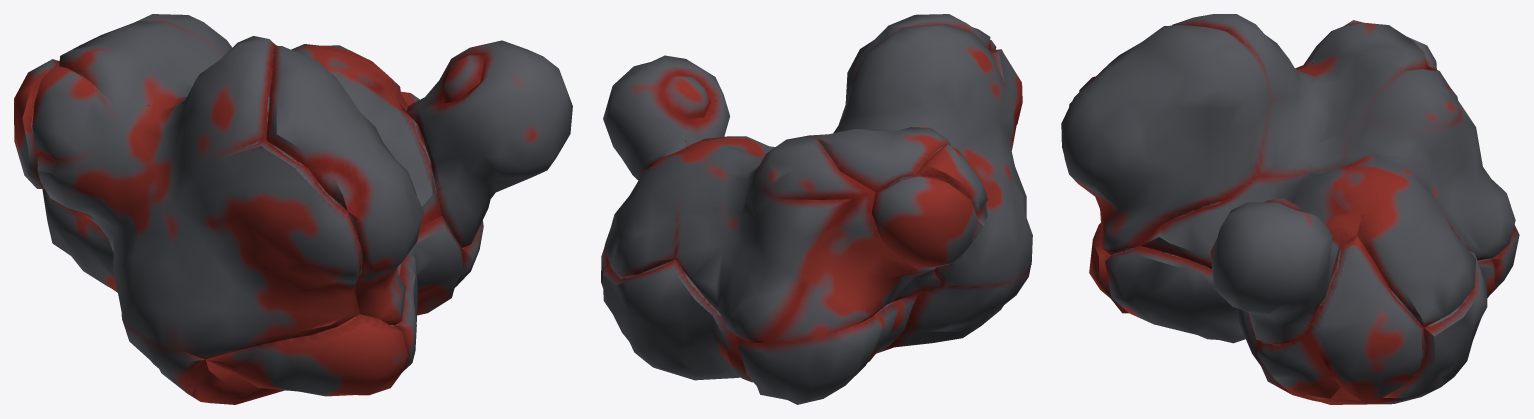
Rendered from hematita.fbx.
3 views of the same model, side by side, from view 1: azimuth 30°, elevation 25°; view 2: azimuth 150°, elevation 25°; view 3: azimuth 270°, elevation 25° (orthographic). The views are drawn at different scales.
Visible parts, largest first — view 1: hematita; view 2: hematita; view 3: hematita.
Boxes of the visible parts, box(x1,y1,x2,y2) form: hematita: box(14, 14, 572, 404); hematita: box(601, 14, 1032, 404); hematita: box(1061, 14, 1519, 404).
Size of the model in its own units: 2.3 by 1.61 by 2.26.
Materials: 1 (1 with a texture image).
